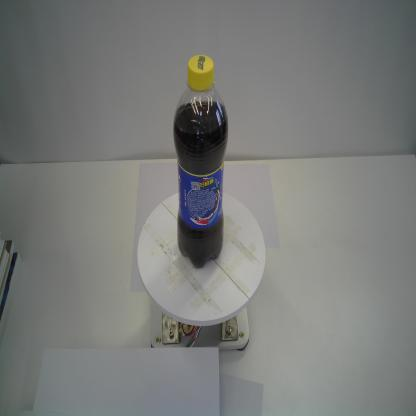Drink: (171, 51, 230, 268)
